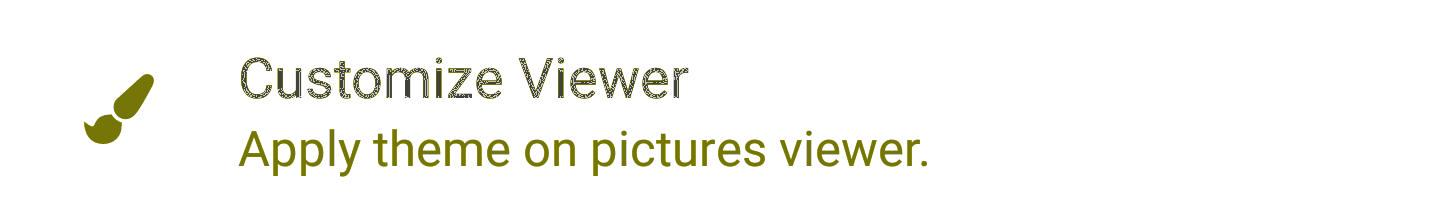CheckedTextView: (1, 1, 1439, 217)
